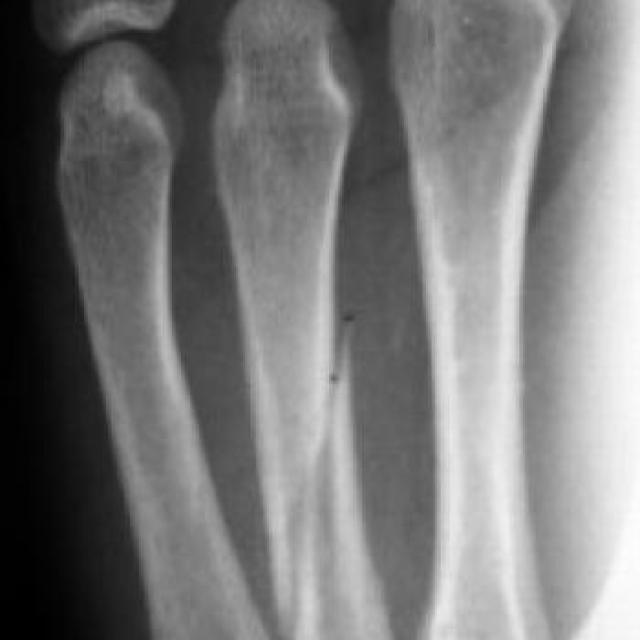Fracture: (304, 304, 366, 434)
